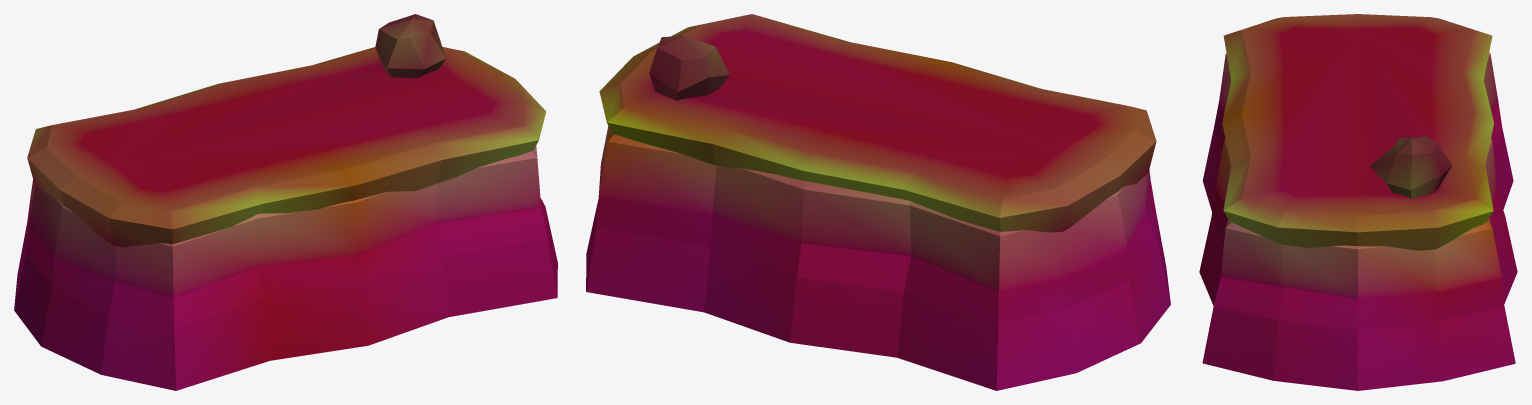
Rendered from Cliff_Ledge_Low.glb.
3 views of the same model, side by side, from view 1: azimuth 30°, elevation 25°; view 2: azimuth 150°, elevation 25°; view 3: azimuth 270°, elevation 25° (orthographic). The views are drawn at different scales.
Visible parts, largest first — view 1: Cliff_Ledge_Low; view 2: Cliff_Ledge_Low; view 3: Cliff_Ledge_Low.
Boxes of the visible parts, x1,y1,x2,y2 form: Cliff_Ledge_Low: (14, 14, 557, 390); Cliff_Ledge_Low: (586, 14, 1170, 390); Cliff_Ledge_Low: (1199, 14, 1517, 390).
Bounding box in the file's own units: 4.57 × 1.85 × 2.6.
